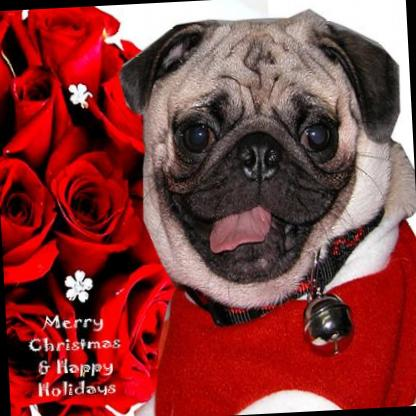pug: (115, 0, 416, 416)
